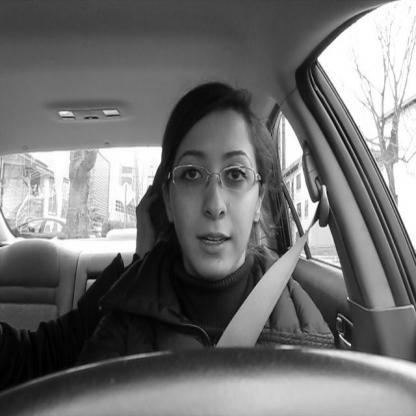seatbelt: (156, 51, 320, 360)
